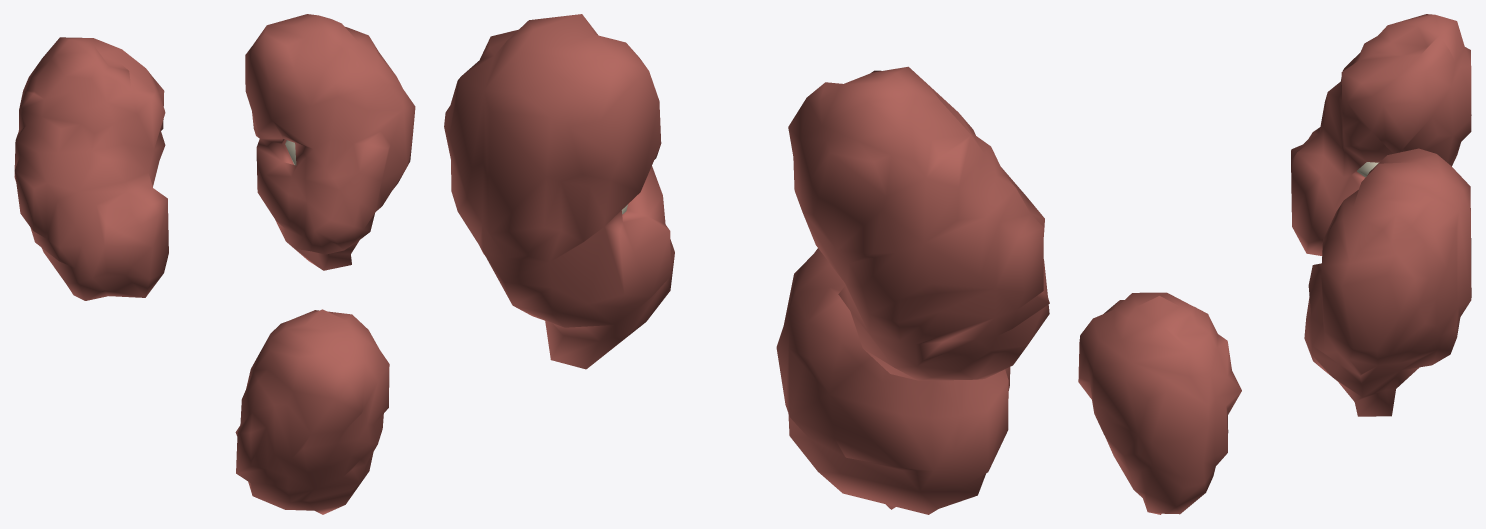
Rendered from fetus.urinary.LOD3.glb.
3 renders of one model, left to right at view 1: azimuth 30°, elevation 25°; view 2: azimuth 150°, elevation 25°; view 3: azimuth 270°, elevation 25°, orthographic. The views are drawn at different scales.
Parts seen in each view (by area): view 1: FETUS.URINARY.RENAL_PARENCHYMA.R, FETUS.URINARY.RENAL_PARENCHYMA.L, FETUS.URINARY.BLADDER; view 2: FETUS.URINARY.RENAL_PARENCHYMA.L, FETUS.URINARY.RENAL_PARENCHYMA.R, FETUS.URINARY.BLADDER; view 3: FETUS.URINARY.RENAL_PARENCHYMA.L, FETUS.URINARY.BLADDER, FETUS.URINARY.RENAL_PARENCHYMA.R.
Part boxes in pixels (box(x1,y1,x2,y2)): FETUS.URINARY.RENAL_PARENCHYMA.R: box(14, 37, 168, 300); FETUS.URINARY.RENAL_PARENCHYMA.L: box(245, 14, 415, 270); FETUS.URINARY.BLADDER: box(235, 309, 389, 514); FETUS.URINARY.RENAL_PARENCHYMA.L: box(444, 14, 674, 369); FETUS.URINARY.RENAL_PARENCHYMA.R: box(788, 66, 1049, 380); FETUS.URINARY.BLADDER: box(776, 248, 1010, 514); FETUS.URINARY.RENAL_PARENCHYMA.L: box(1304, 148, 1471, 416); FETUS.URINARY.BLADDER: box(1078, 292, 1241, 514); FETUS.URINARY.RENAL_PARENCHYMA.R: box(1291, 14, 1471, 255).
Size of the model in its own units: 0.0534 by 0.056 by 0.0457.
